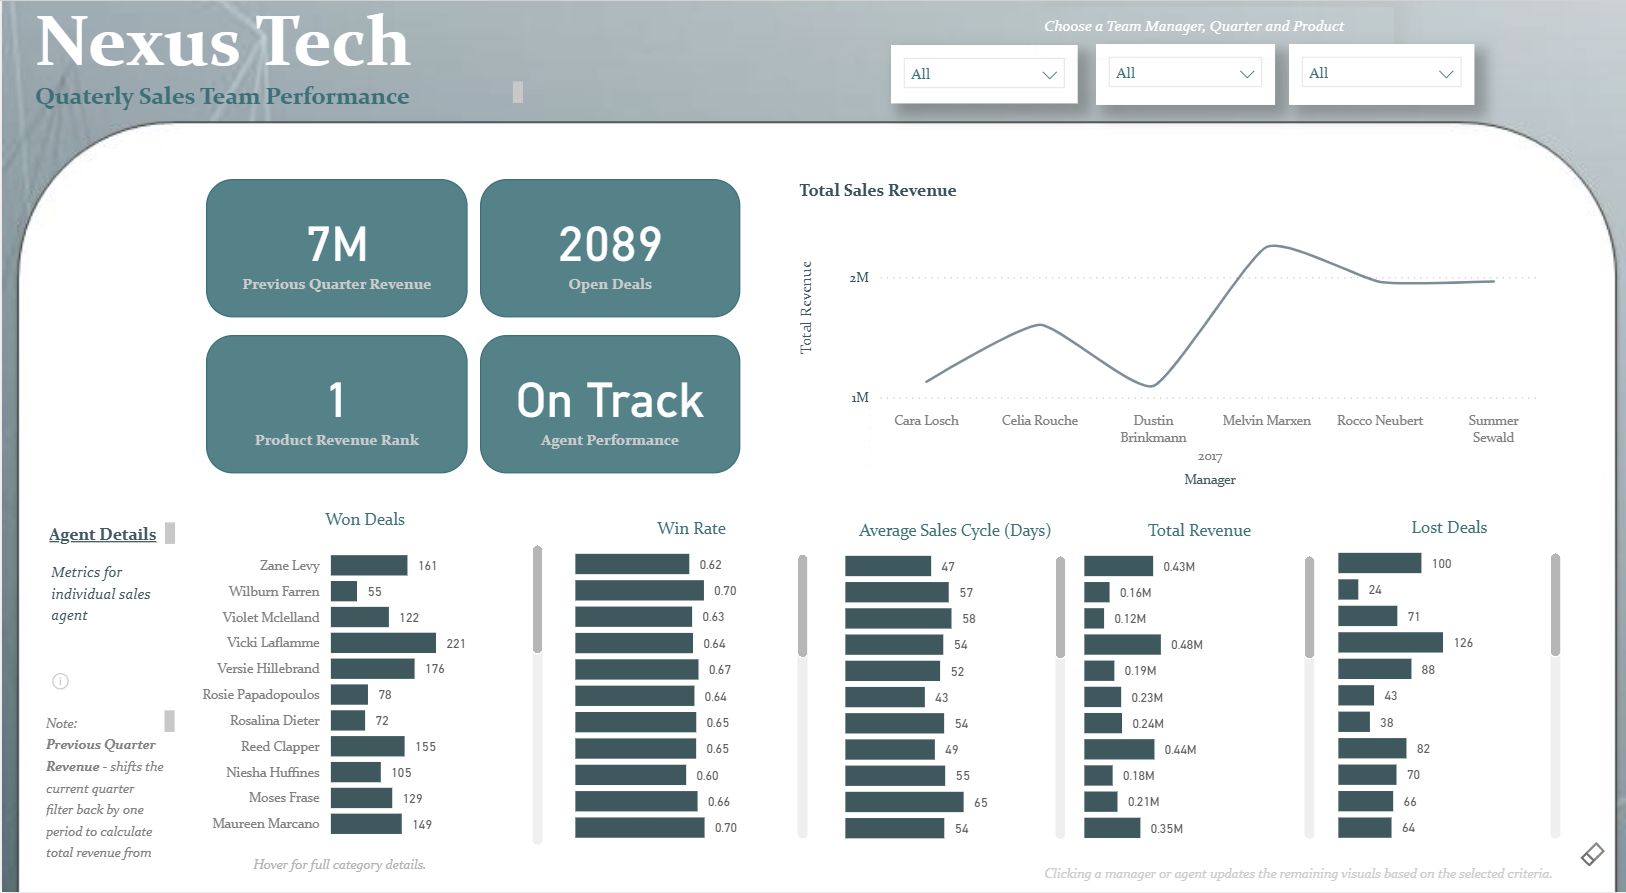

What the dashboard file says about the page in this screenshot:
{"tool":"powerbi","page":{"name":"Page 1 - Team Performance ","canvas":[1280,720],"ordinal":1},"visuals":[{"type":"clusteredBarChart","title":"Won Deals ","fields":{"Category":["sales_teams.Sales agent"],"Y":["Measure table.Won Deals"]},"box":[200.6,454.8,229.3,227],"z":0},{"type":"clusteredBarChart","title":"Win Rate ","fields":{"Category":["sales_teams.Sales agent"],"Y":["Measure table.Win Rate"]},"box":[443.1,454.8,179.3,226.3],"z":1000},{"type":"clusteredBarChart","title":"Average Sales Cycle (Days)","fields":{"Category":["sales_teams.Sales agent"],"Y":["Measure table.Avg Sales Cycle (Days)"]},"box":[640.7,459.2,182.2,221.9],"z":2000},{"type":"clusteredBarChart","title":"Total Revenue ","fields":{"Category":["sales_teams.Sales agent"],"Y":["Measure table.Total Revenue"]},"box":[831.8,459.2,185.2,225.6],"z":3000},{"type":"clusteredBarChart","title":"Lost Deals ","fields":{"Category":["sales_teams.Sales agent"],"Y":["Measure table.Lost Deals"]},"box":[1035.3,462.9,203.5,223.4],"z":4000},{"type":"textbox","box":[33.2,462.6,136.4,26.4],"z":5000},{"type":"textbox","box":[33.2,489,148.1,64.5],"z":6000},{"type":"treemap","title":"Total Sales Revenue by Sector","fields":{"Group":["accounts.sector"],"Values":["Measure table.Total Revenue"]},"box":[694.2,171.4,290,243.9],"z":7000},{"type":"slicer","title":"Choose a Team Manager","fields":{"Values":["sales_teams.Manager"]},"box":[828.8,53.6,147,44.8],"z":8000},{"type":"slicer","fields":{"Values":["Calendar.Quarter"]},"box":[1011.8,53.6,141.8,47.8],"z":9000},{"type":"pivotTable","fields":{"Rows":["sales_teams.Sales agent"],"Columns":["products.product"],"Values":["Measure table.Won Deal Count"]},"box":[85.4,239,599.6,190.4],"z":10000},{"type":"card","fields":{"Values":["Measure table.Revenue Prior Quarter"]},"box":[95.2,132.7,180,105.1],"z":11000},{"type":"card","fields":{"Values":["Measure table.Open Deals"]},"box":[285.1,132.7,190.4,106.3],"z":12000},{"type":"textbox","box":[21.5,0,333.1,82.6],"z":13000},{"type":"textbox","box":[21.5,65.3,393.4,34.7],"z":14000},{"type":"textbox","box":[823.1,13.2,233.9,28.1],"z":15000},{"type":"textbox","box":[33.2,571.9,110.6,129.6],"z":16000},{"type":"actionButton","box":[21.3,549.6,44.8,34.5],"z":17000},{"type":"textbox","box":[716.9,415.3,446,60.8],"z":18000},{"type":"textbox","box":[228.5,670.9,173.2,33.2],"z":19000},{"type":"actionButton","box":[1238.9,673.1,27.9,33.1],"z":20000},{"type":"card","fields":{"Values":["Measure table.Is Lagging Agent"]},"box":[484.1,132.7,186.1,106.3],"z":21000},{"type":"lineChart","title":"Total Sales Revenue","fields":{"Y":["Measure Table.Total Revenue"],"Category":["Calendar.Date.Variation.Date Hierarchy.Year","sales_teams.Manager"]},"box":[984.2,171.4,268.5,239],"z":22000}]}

Visuals, with their boxes in screenshot pixels (x1, y1, x2, y2), scaled from the page's 1280x720 canvas onto the 1626x893 screenshot:
"Won Deals " clusteredBarChart: x1=255, y1=564, x2=546, y2=846
"Win Rate " clusteredBarChart: x1=563, y1=564, x2=791, y2=845
"Average Sales Cycle (Days)" clusteredBarChart: x1=814, y1=570, x2=1045, y2=845
"Total Revenue " clusteredBarChart: x1=1057, y1=570, x2=1292, y2=849
"Lost Deals " clusteredBarChart: x1=1315, y1=574, x2=1574, y2=851
textbox: x1=42, y1=574, x2=215, y2=606
textbox: x1=42, y1=606, x2=230, y2=686
"Total Sales Revenue by Sector" treemap: x1=882, y1=213, x2=1250, y2=515
"Choose a Team Manager" slicer: x1=1053, y1=66, x2=1240, y2=122
slicer - Calendar.Quarter: x1=1285, y1=66, x2=1465, y2=126
pivotTable - sales_teams.Sales agent x products.product: x1=108, y1=296, x2=870, y2=533
card - Measure table.Revenue Prior Quarter: x1=121, y1=165, x2=350, y2=295
card - Measure table.Open Deals: x1=362, y1=165, x2=604, y2=296
textbox: x1=27, y1=0, x2=450, y2=102
textbox: x1=27, y1=81, x2=527, y2=124
textbox: x1=1046, y1=16, x2=1343, y2=51
textbox: x1=42, y1=709, x2=183, y2=870
actionButton: x1=27, y1=682, x2=84, y2=724
textbox: x1=911, y1=515, x2=1477, y2=590
textbox: x1=290, y1=832, x2=510, y2=873
actionButton: x1=1574, y1=835, x2=1609, y2=876
card - Measure table.Is Lagging Agent: x1=615, y1=165, x2=851, y2=296
"Total Sales Revenue" lineChart: x1=1250, y1=213, x2=1591, y2=509
